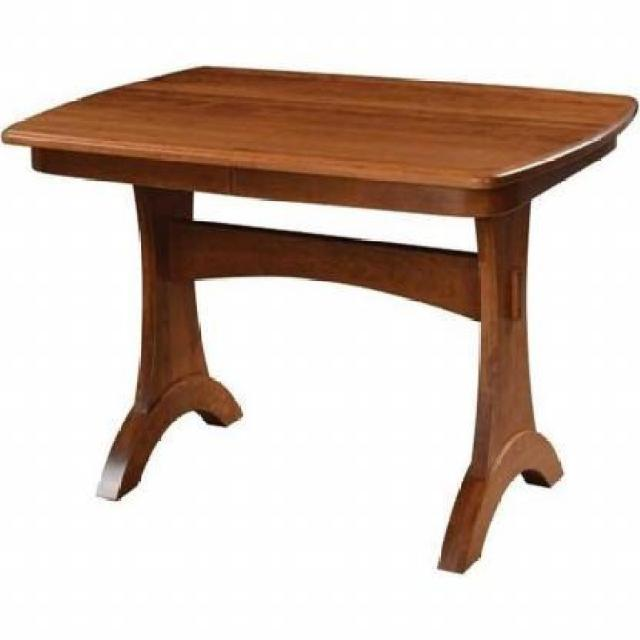tables: (0, 61, 638, 573)
